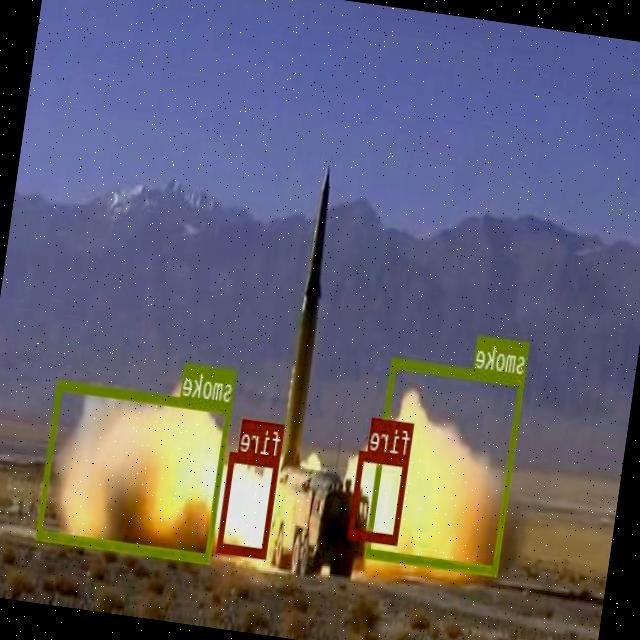fire: (218, 450, 282, 557), (349, 449, 410, 544)
smoke: (37, 380, 233, 562), (366, 358, 526, 574)
